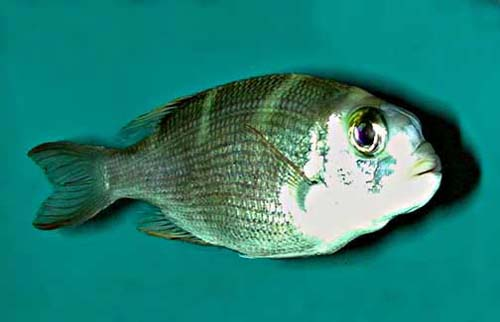fish: (27, 72, 444, 259)
